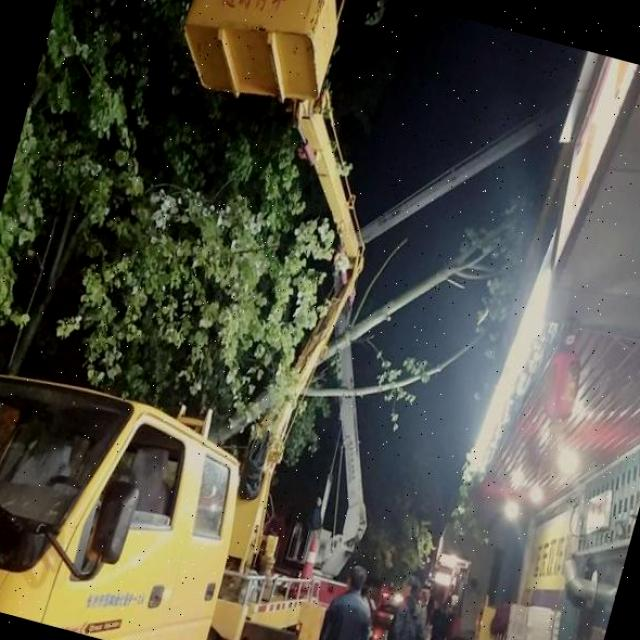fallen_object: (196, 118, 542, 512)
